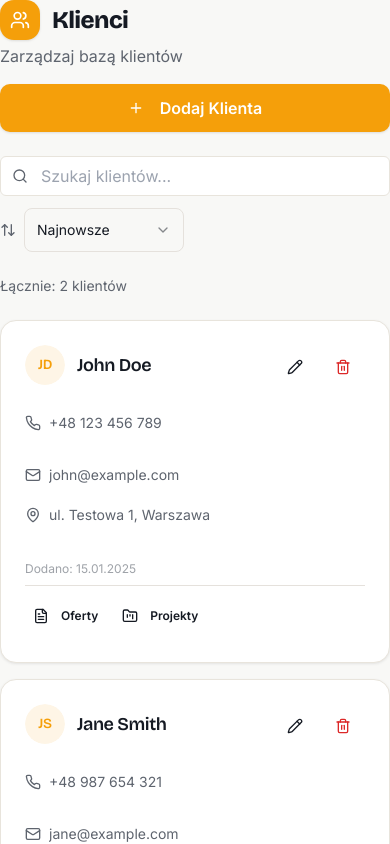
Test: Clients › edit and delete clients › should open edit modal when edit button is clicked
What coordinates should you click on to do the following:
click the button named "Edytuj klienta" next to "John Doe"
I would click on:
 (295, 367)
Its box is x1=273 y1=345 x2=317 y2=389.
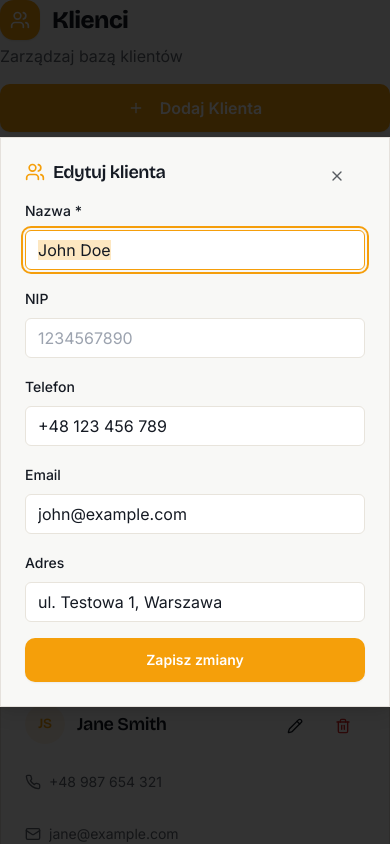
Check: the heading "Edytuj klienta" is shown, box x1=25 y1=161 x2=166 y2=183
Check: the field labelled "Nazwa *" holds "John Doe", box x1=25 y1=230 x2=365 y2=270
